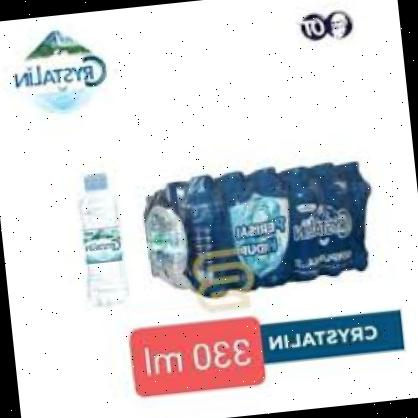bottle: (53, 159, 134, 318)
cap: (78, 168, 110, 194)
label: (76, 224, 124, 266)
